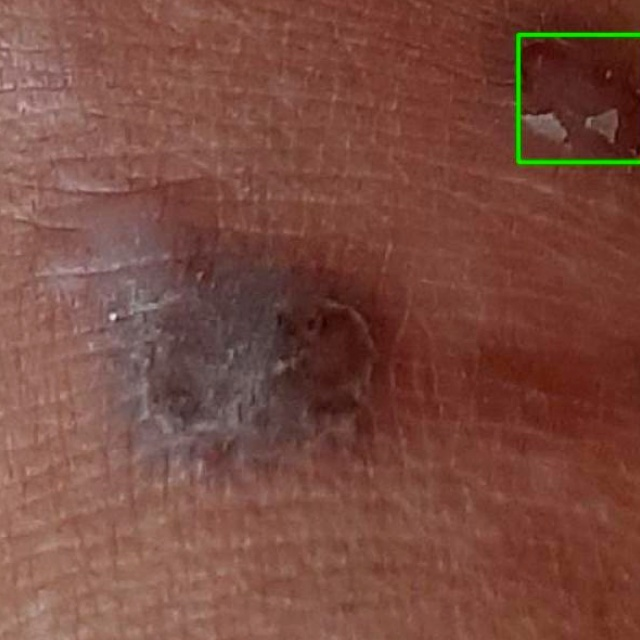Contact Dermatitis: (518, 34, 639, 162)
